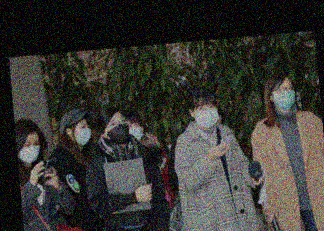with_mask: (193, 100, 218, 129), (106, 114, 129, 144), (271, 83, 295, 109), (17, 138, 40, 164), (74, 121, 92, 146), (126, 121, 143, 140)
